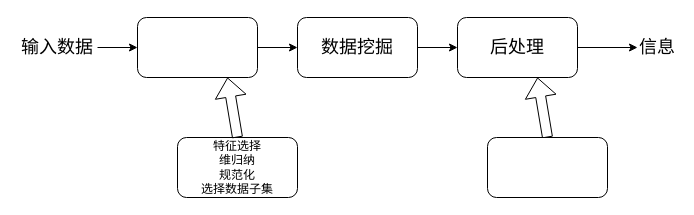
This 694x215 diagram has some shape labels left out. Each missing label, with the centre of its shape:
数据预处理: point 197,47
模式过滤 可视化 模式表示: point 547,167
